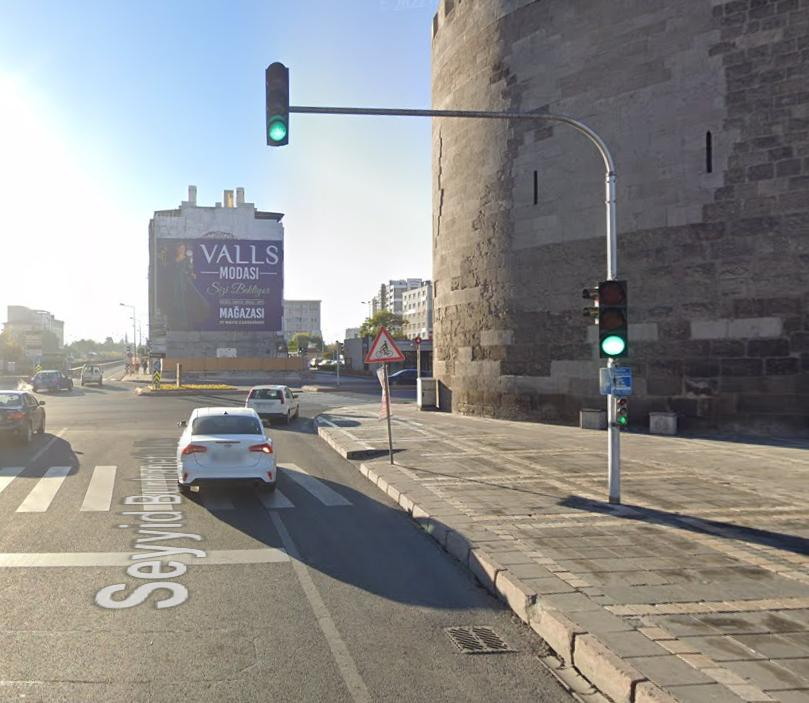greenlight: (264, 64, 294, 146), (601, 281, 626, 362)
